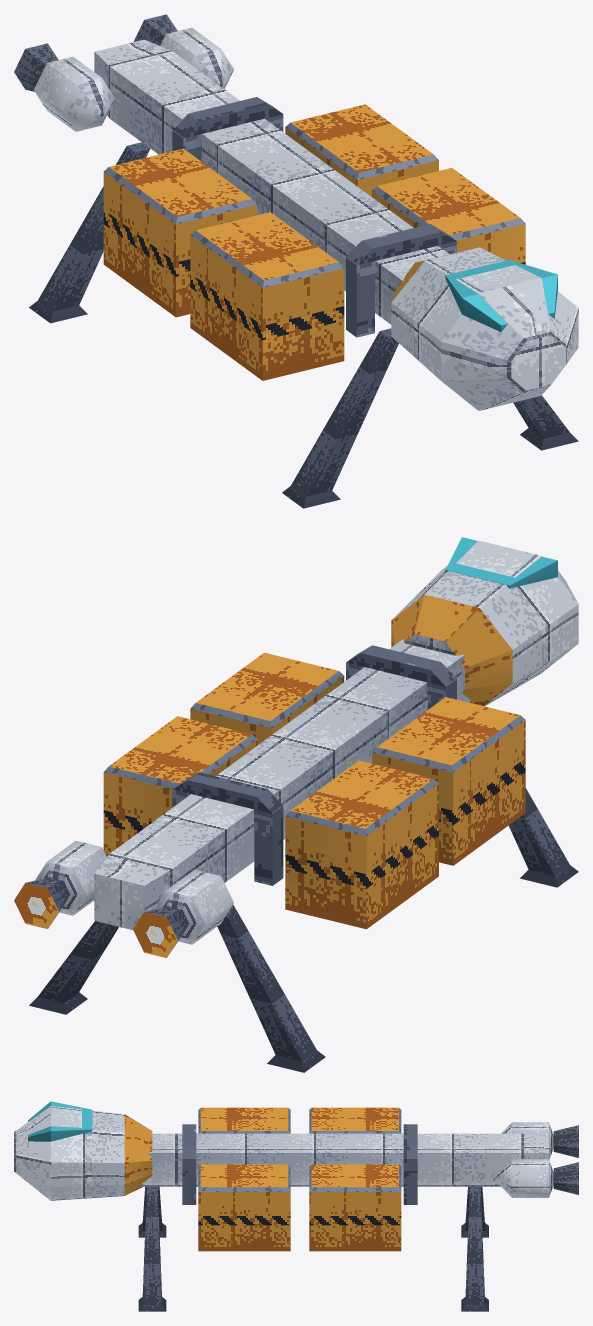
File: ship.hauler.glb
3 renders of one model, top to bottom at view 1: azimuth 30°, elevation 25°; view 2: azimuth 150°, elevation 25°; view 3: azimuth 270°, elevation 25°, orthographic. The views are drawn at different scales.
Visible parts, largest first — view 1: kit_pods, kit_spine, kit_cab, kit_legs, kit_clamps, kit_nacelles, kit_cab_glass, kit_bells; view 2: kit_pods, kit_spine, kit_cab, kit_legs, kit_clamps, kit_nacelles, kit_bells, kit_cab_glass; view 3: kit_pods, kit_spine, kit_cab, kit_legs, kit_nacelles, kit_clamps, kit_bells, kit_cab_glass.
Boxes of the visible parts, x1,y1,x2,y2 form: kit_pods: (103, 104, 525, 380); kit_spine: (94, 39, 449, 324); kit_cab: (391, 247, 578, 410); kit_legs: (29, 142, 578, 508); kit_clamps: (172, 97, 456, 337); kit_nacelles: (34, 27, 233, 131); kit_cab_glass: (445, 260, 557, 332); kit_bells: (14, 14, 177, 91); kit_pods: (103, 652, 525, 929); kit_spine: (94, 639, 471, 929); kit_cab: (391, 540, 578, 706); kit_legs: (29, 788, 578, 1072); kit_clamps: (172, 645, 456, 885); kit_nacelles: (35, 840, 233, 944); kit_bells: (14, 877, 188, 957); kit_cab_glass: (445, 537, 557, 588); kit_pods: (198, 1107, 401, 1251); kit_spine: (139, 1133, 548, 1186); kit_cab: (14, 1106, 152, 1200); kit_legs: (138, 1186, 488, 1311); kit_nacelles: (494, 1122, 553, 1197); kit_clamps: (182, 1124, 417, 1204); kit_bells: (553, 1125, 578, 1194); kit_cab_glass: (28, 1101, 92, 1141).
Size of the model in its own units: 4.4 by 3.66 by 12.25.
Materials: 8 (7 with a texture image).
